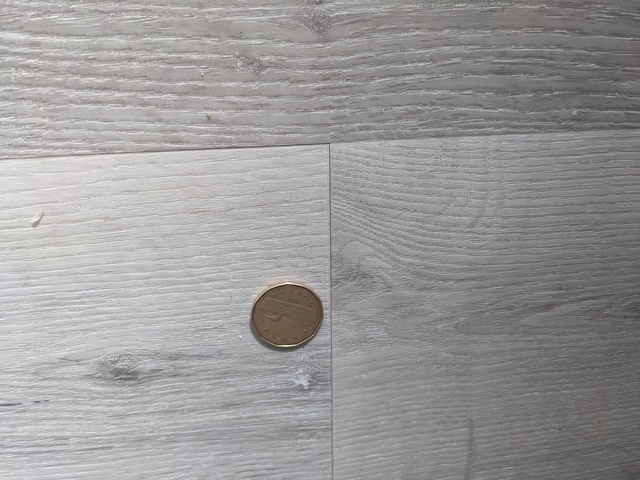loonie: (247, 268, 333, 357)
